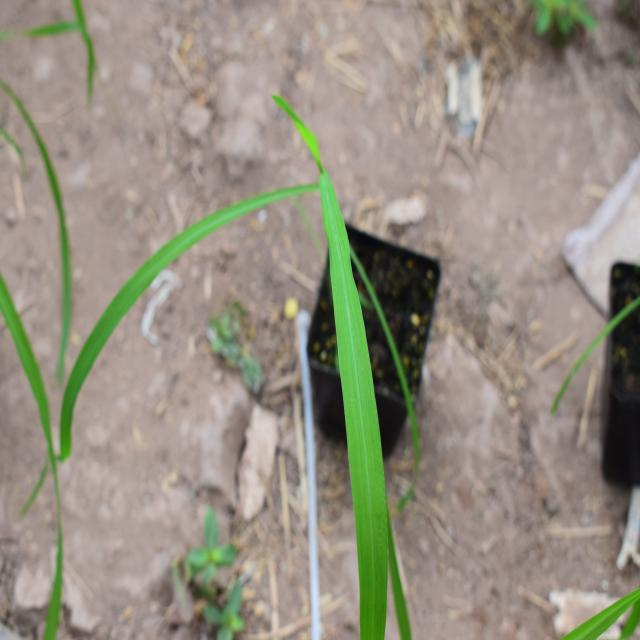barnyard_grass: (72, 115, 435, 618)
